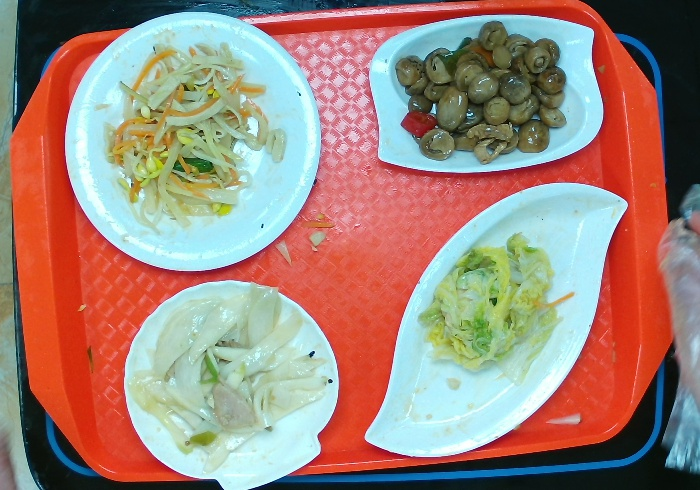RJxy-Bei_Ke_Wan: (118, 279, 343, 490)
RJxy-Jian_Jiao_Fang_Die: (363, 10, 608, 177)
RJxy-Jian_Jiao_Pan: (361, 178, 629, 462)
RJxy-Yuan_Pan: (61, 9, 325, 276)
